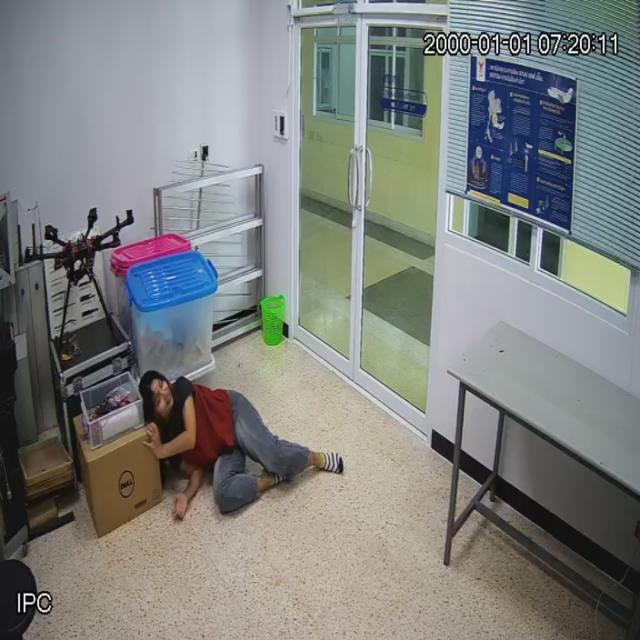fall: (128, 356, 356, 522)
